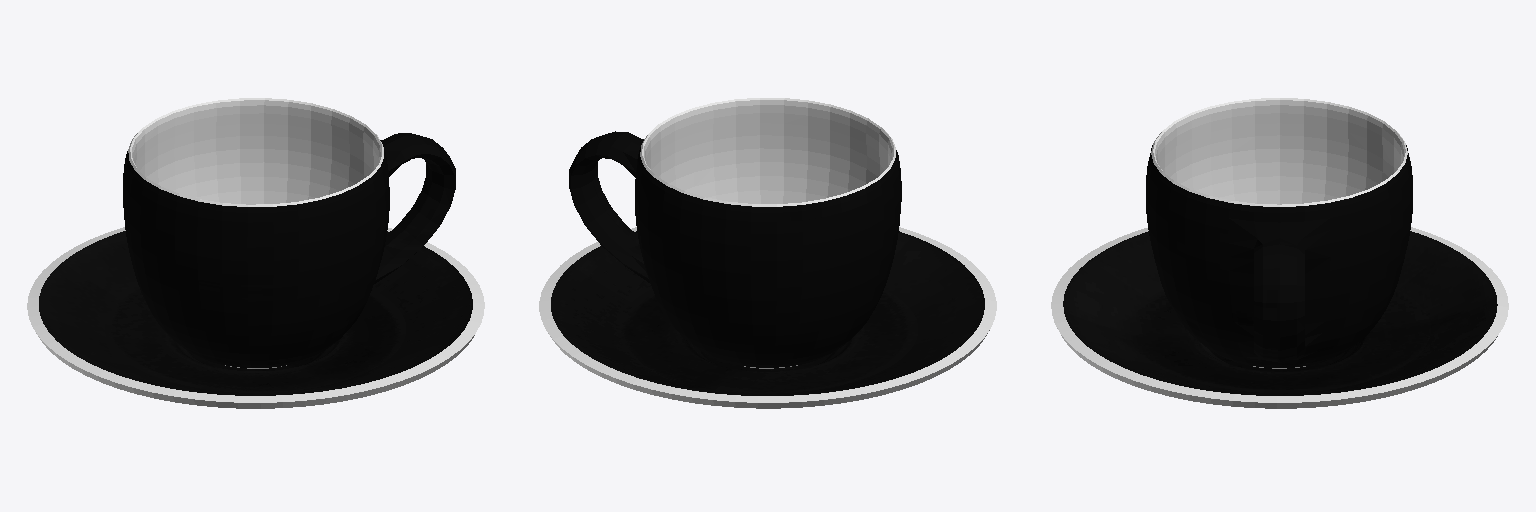
The picture shows the model from 3 angles: view 1: azimuth 30°, elevation 25°; view 2: azimuth 150°, elevation 25°; view 3: azimuth 270°, elevation 25°; orthographic projection.
Visible parts, largest first — view 1: 13.0.114.0; view 2: 13.0.114.0; view 3: 13.0.114.0.
Part boxes in pixels (x1,y1,x2,y2): 13.0.114.0: (27,98,484,408); 13.0.114.0: (539,98,996,408); 13.0.114.0: (1051,98,1508,408).
Bounding box in the file's own units: 12.04 × 6.09 × 12.04.
Materials: 5 (3 with a texture image).